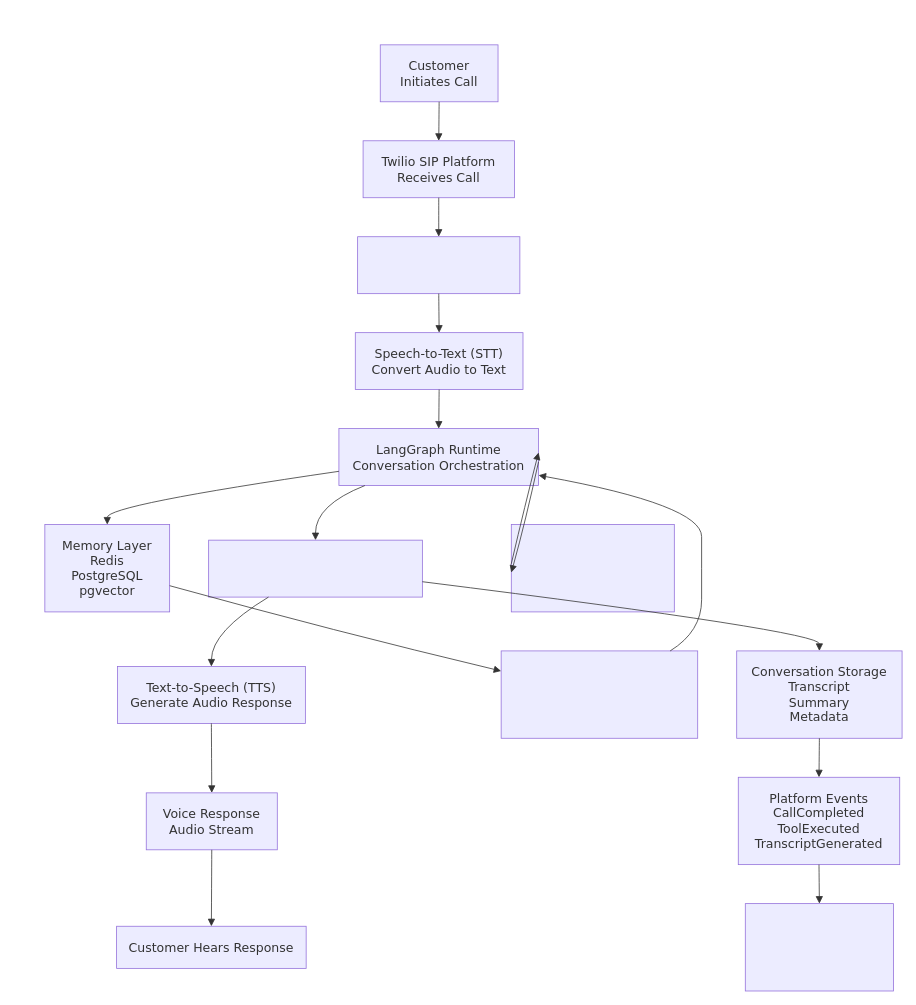
This 916x1005 diagram has some shape labels left out. The centre of each missing label's shape, as x and y in pixels:
"Analytics & Billing Usage Costs Metrics" goes at [819,947].
"Async Tool Execution CRM Calendar Business APIs" goes at [592,568].
"Knowledge Retrieval (RAG) Policies Documents FAQs" goes at [599,694].
"LiveKit Voice Session Creates Room" goes at [438,265].
"LLM Reasoning Intent & Response Generation" goes at [315,568].
